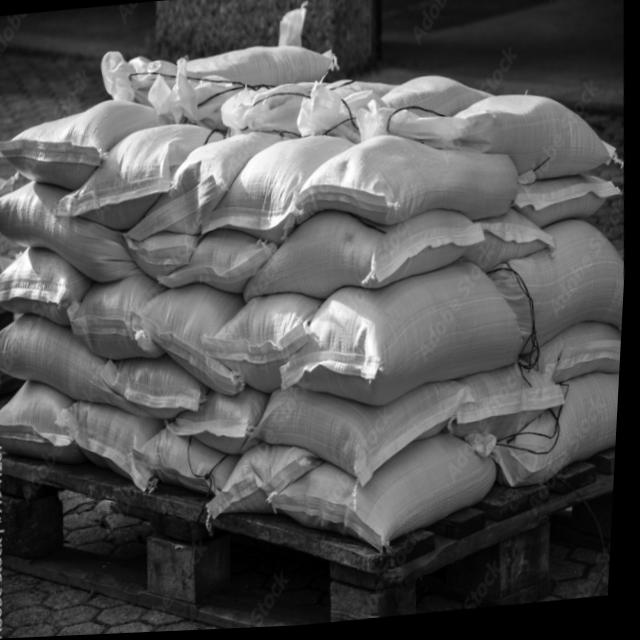sack: (276, 259, 534, 419), (270, 432, 507, 565), (242, 373, 484, 501), (243, 200, 490, 308), (291, 126, 524, 237), (99, 31, 339, 131), (487, 219, 630, 364), (423, 89, 622, 192), (53, 121, 231, 236), (122, 131, 295, 243), (199, 136, 362, 253), (0, 172, 141, 294), (0, 96, 170, 197), (490, 374, 624, 494), (129, 281, 254, 407), (200, 293, 329, 400), (0, 306, 125, 416), (55, 392, 173, 501), (449, 362, 573, 449), (207, 441, 333, 523), (68, 273, 174, 366), (133, 422, 249, 506), (160, 227, 283, 302), (168, 385, 276, 465), (0, 242, 95, 331), (0, 375, 86, 470), (102, 352, 210, 425), (514, 175, 626, 236), (465, 210, 561, 280), (528, 324, 626, 390), (123, 226, 203, 283)
